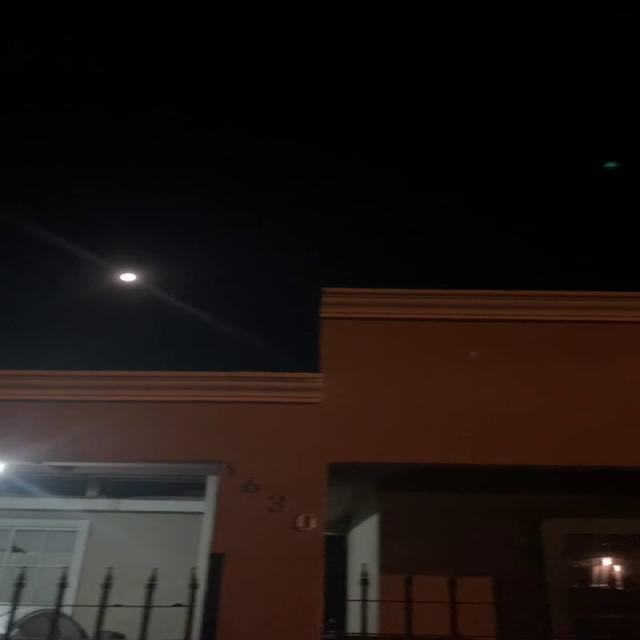moon: (115, 267, 143, 290)
